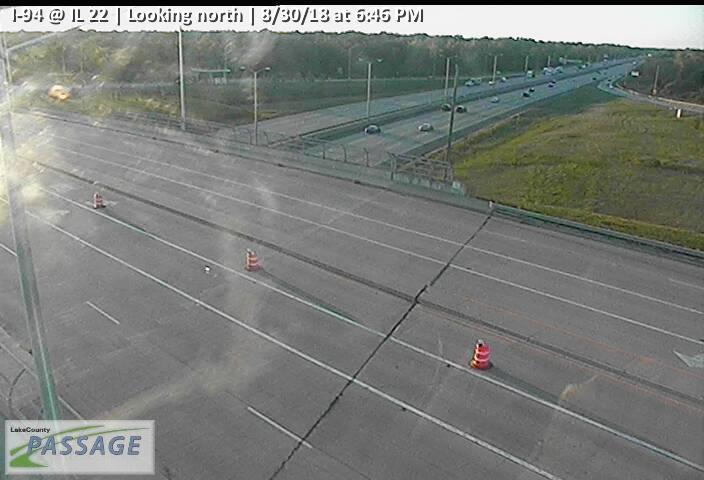Sedan: (365, 125, 381, 133), (419, 123, 432, 131), (455, 105, 466, 113)
